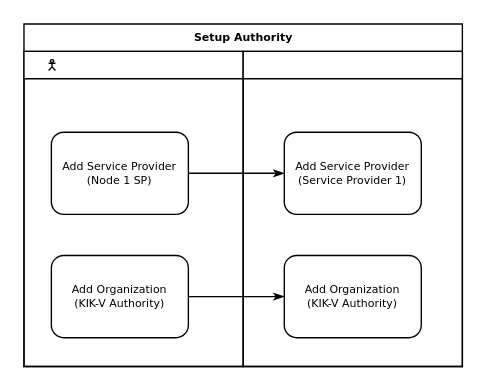
The diagram is 486 pixels wide and 390 high, and some of its shapes have lost their labels. The shapes that lost their labels are listed below. From the top down, each one's box as (x1, y1, x2, y2) in pixels, then its label:
(23, 50, 243, 366): Service Provider 1
(242, 50, 462, 366): Nuts Node 1 (Authority)
